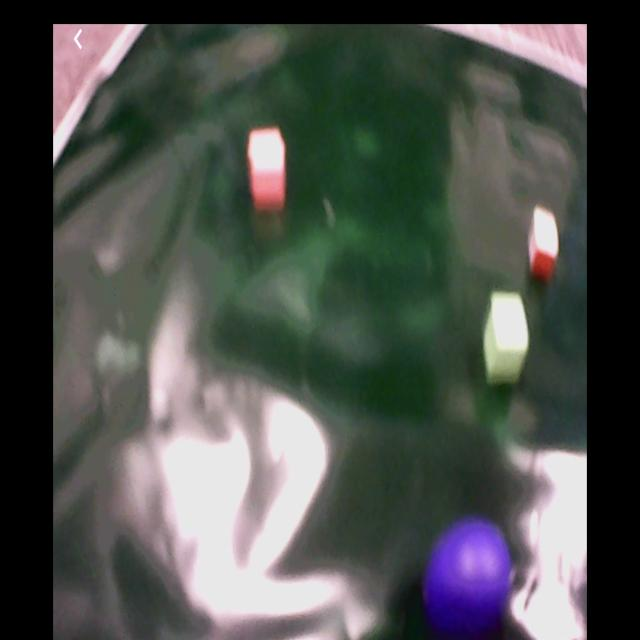ball: (424, 521, 513, 632)
